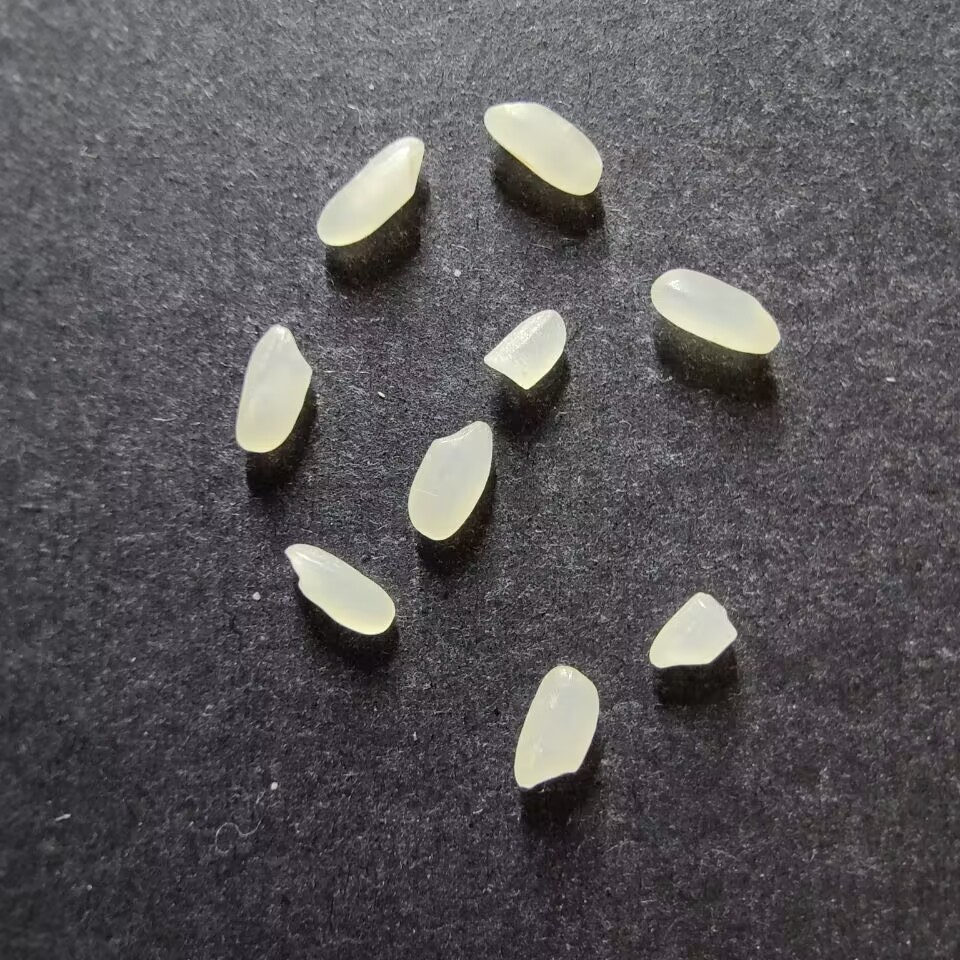broken: (484, 308, 567, 390), (649, 592, 738, 668)
rice: (316, 136, 425, 245), (650, 267, 781, 355), (484, 101, 603, 196), (514, 664, 600, 789), (407, 420, 494, 540), (285, 542, 396, 635), (235, 324, 313, 453)
